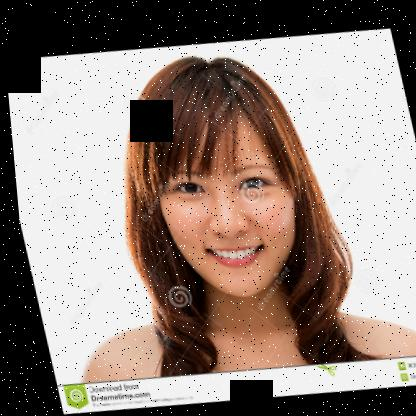Female: (133, 82, 310, 302)
